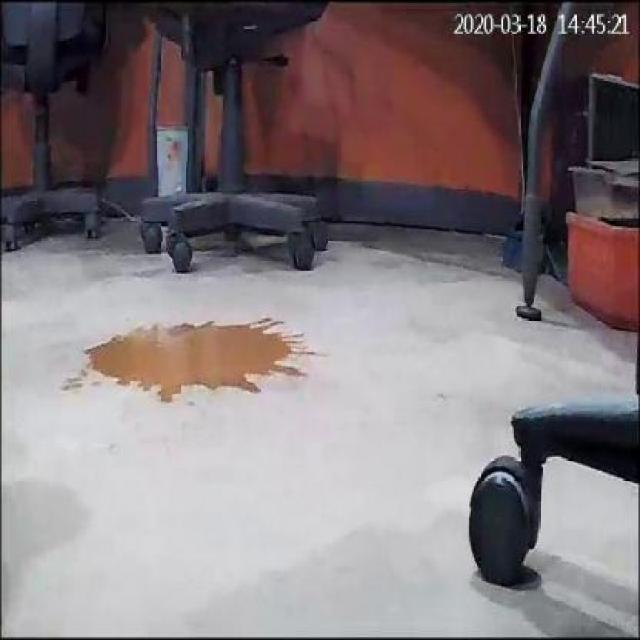spill: (86, 312, 327, 400)
